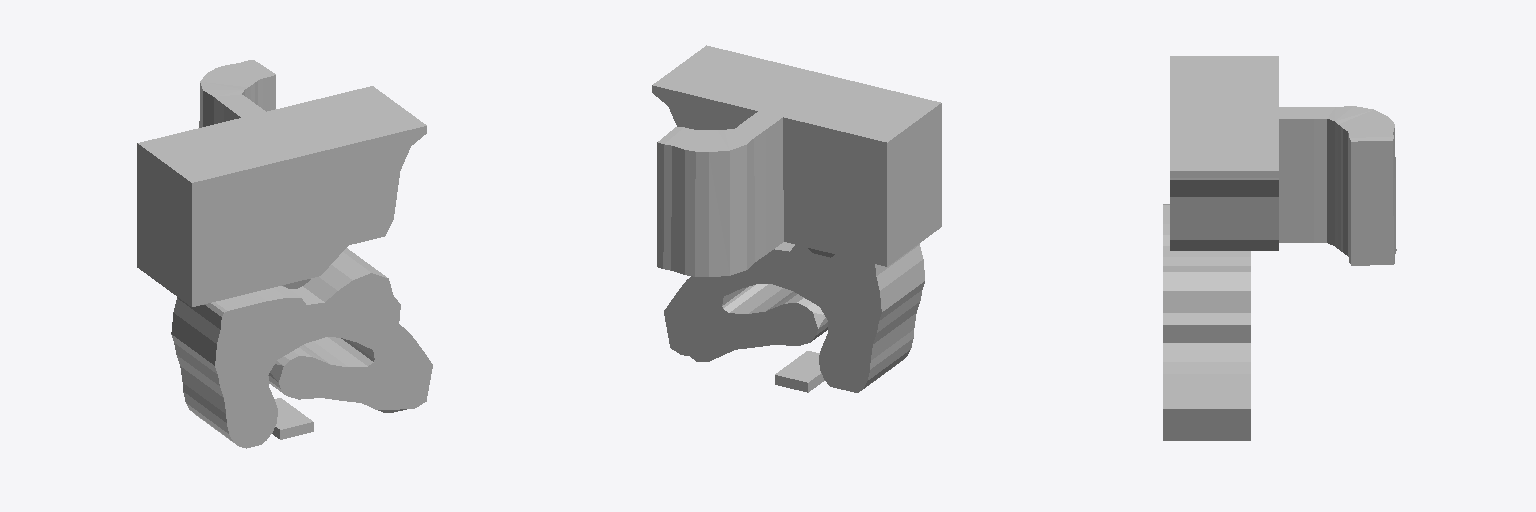
The picture shows the model from 3 angles: view 1: azimuth 30°, elevation 25°; view 2: azimuth 150°, elevation 25°; view 3: azimuth 270°, elevation 25°; orthographic projection.
Parts seen in each view (by area): view 1: World.MeshShape, DeliveryZone.BoxShape; view 2: World.MeshShape, DeliveryZone.BoxShape; view 3: World.MeshShape.
Boxes of the visible parts, box(x1,y1,x2,y2) form: World.MeshShape: box(137, 60, 432, 448); DeliveryZone.BoxShape: box(272, 398, 313, 439); World.MeshShape: box(652, 45, 941, 392); DeliveryZone.BoxShape: box(775, 351, 824, 392); World.MeshShape: box(1163, 56, 1396, 440).
Bounding box in the file's own units: 24.85 × 28.42 × 21.08.